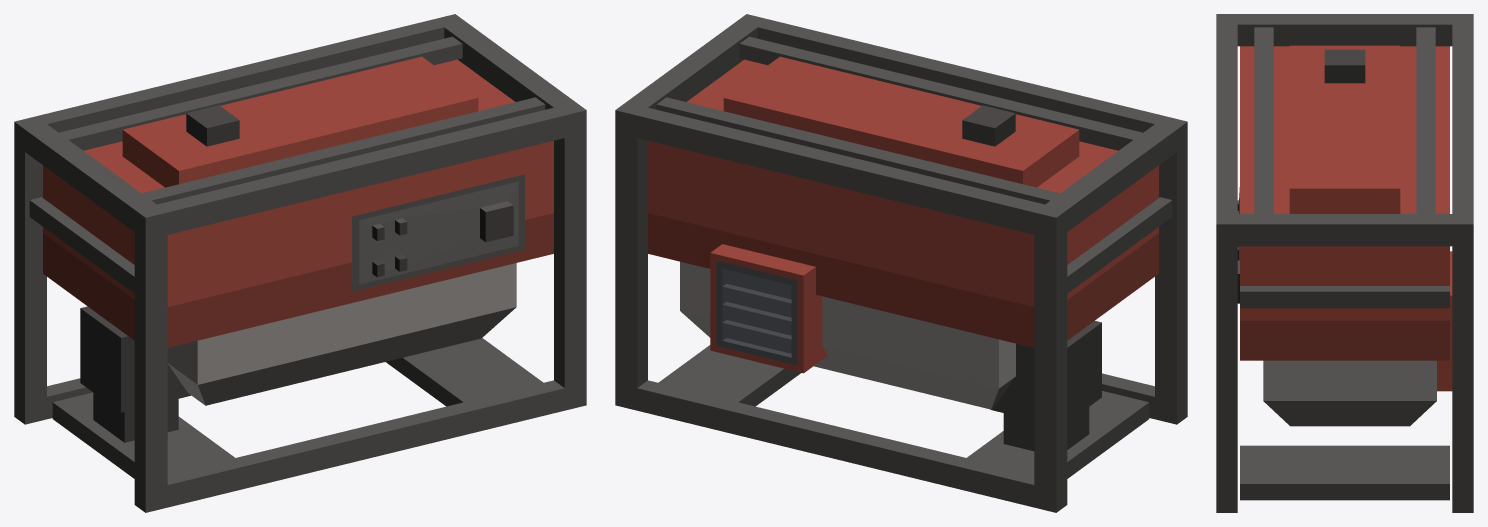
File: AI_Prop_Generator.fbx
3 renders of one model, left to right at view 1: azimuth 30°, elevation 25°; view 2: azimuth 150°, elevation 25°; view 3: azimuth 270°, elevation 25°, orthographic. The views are drawn at different scales.
Visible parts, largest first — view 1: AI_Prop_Generator; view 2: AI_Prop_Generator; view 3: AI_Prop_Generator.
Boxes of the visible parts, left/top/right/bottom form: AI_Prop_Generator: left=14, top=14, right=586, bottom=512; AI_Prop_Generator: left=615, top=14, right=1187, bottom=512; AI_Prop_Generator: left=1216, top=14, right=1473, bottom=512.
Bounding box in the file's own units: 1.52 × 1.04 × 0.7862.
